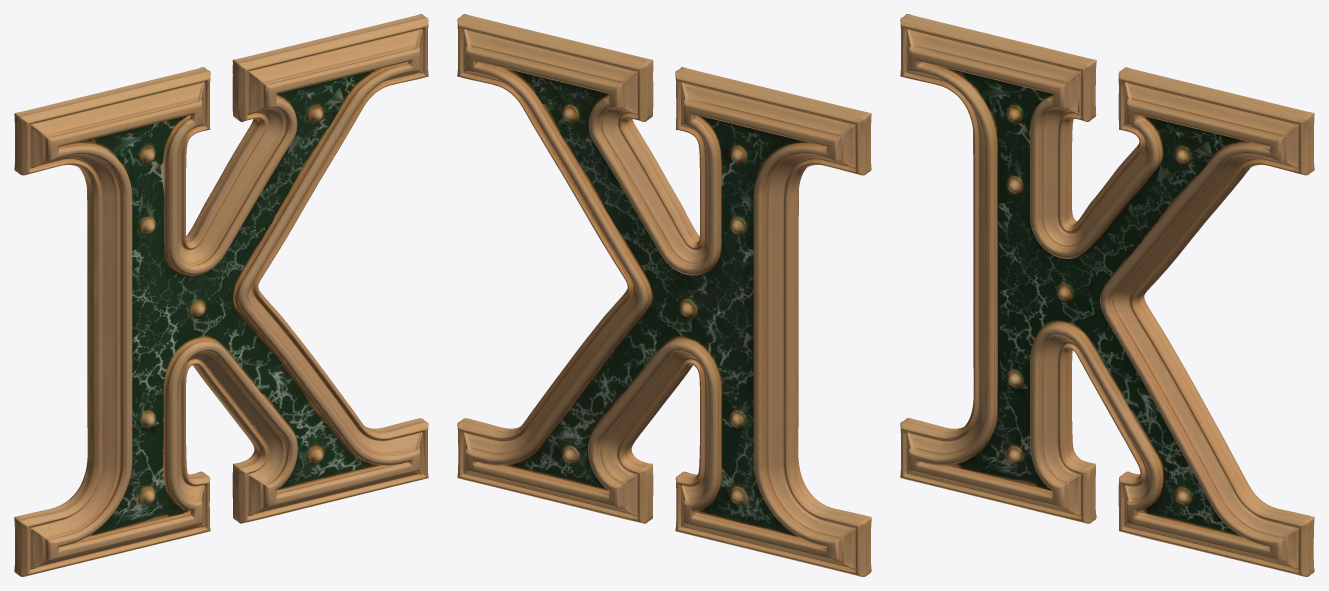
The model's file is xic.glb.
3 renders of one model, left to right at view 1: azimuth 30°, elevation 25°; view 2: azimuth 150°, elevation 25°; view 3: azimuth 330°, elevation 25°, orthographic.
Visible parts, largest first — view 1: K; view 2: K; view 3: K.
Part boxes in pixels (x1,y1,x2,y2): K: (14, 14, 428, 576); K: (457, 14, 871, 576); K: (900, 14, 1314, 576).
Bounding box in the file's own units: 3.47 × 3.74 × 0.416.
1 material, 1 textured.
